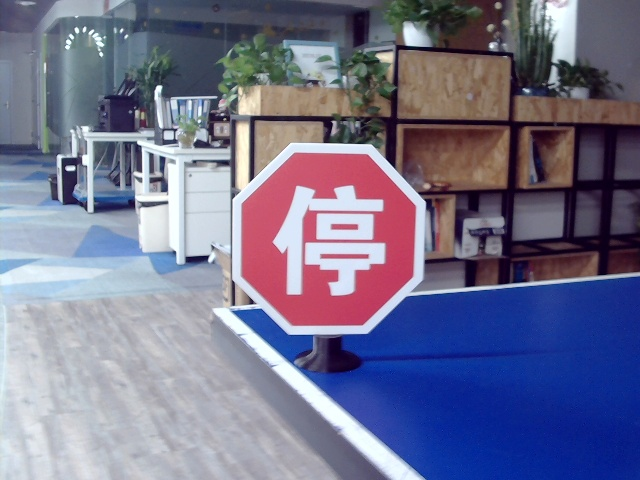stop: (271, 181, 389, 297)
